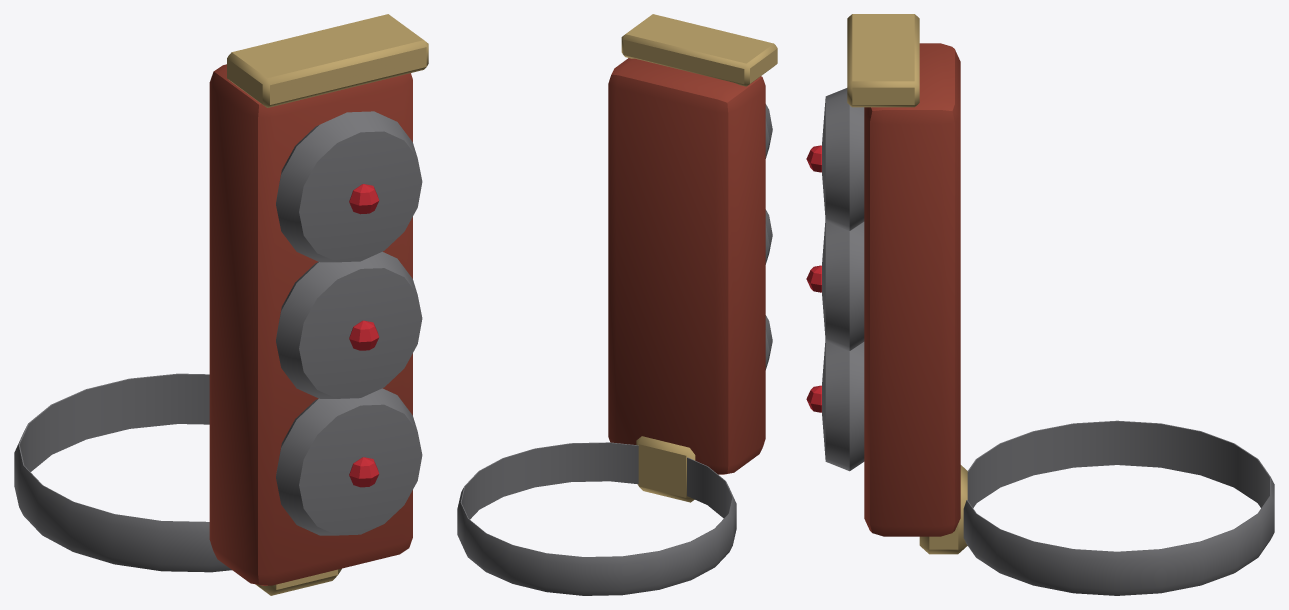
File: Kit_Active_Mine.glb
3 views of the same model, side by side, from view 1: azimuth 30°, elevation 25°; view 2: azimuth 150°, elevation 25°; view 3: azimuth 270°, elevation 25° (orthographic). The views are drawn at different scales.
Parts seen in each view (by area): view 1: Kit_Active_Mine; view 2: Kit_Active_Mine; view 3: Kit_Active_Mine.
Part boxes in pixels (x1,y1,x2,y2): Kit_Active_Mine: [14, 14, 428, 595]; Kit_Active_Mine: [457, 14, 777, 595]; Kit_Active_Mine: [806, 14, 1274, 595].
Size of the model in its own units: 0.132 by 0.226 by 0.1943.
